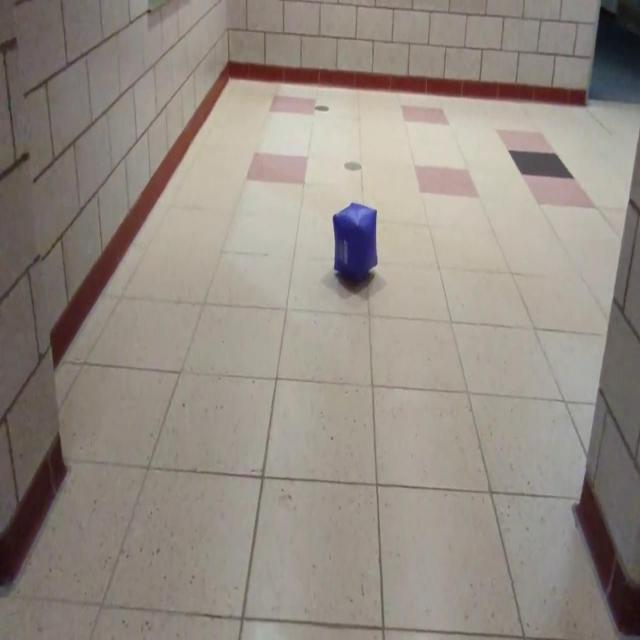frc_cube: (333, 201, 379, 283)
